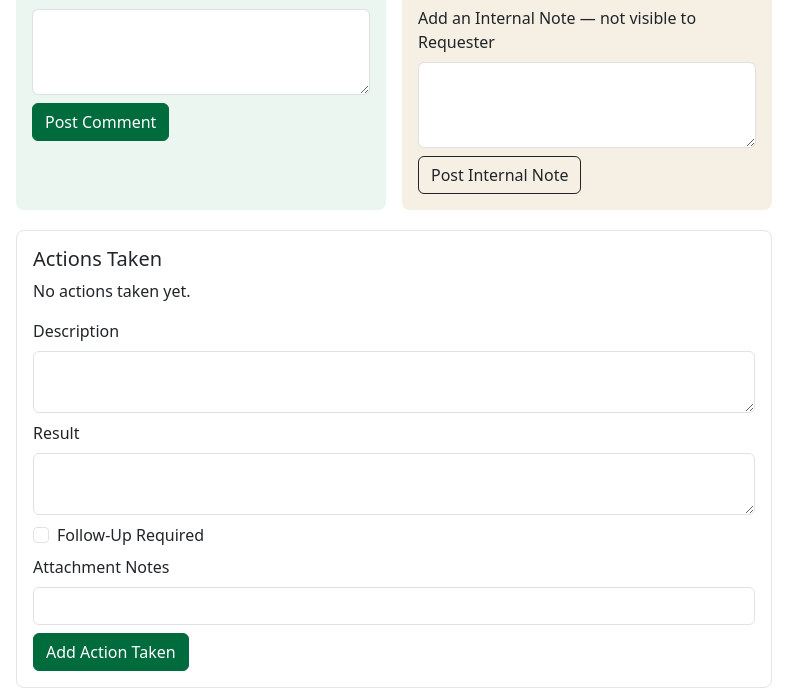
Test: StaffTicketDetail - Actions Taken create (UI-01, UI-02) › shows the Follow-up Note field only when Follow-Up Required is checked
The image size is (789, 690).
(page scrolled)
Expected: the text "No actions taken yet." is shown, [33,280,191,302]
Expected: the field labelled "Follow-up Note" is not shown
Step 1. Click the checkbox labelled "Follow-Up Required" → (41, 535), box [33,527,49,543]
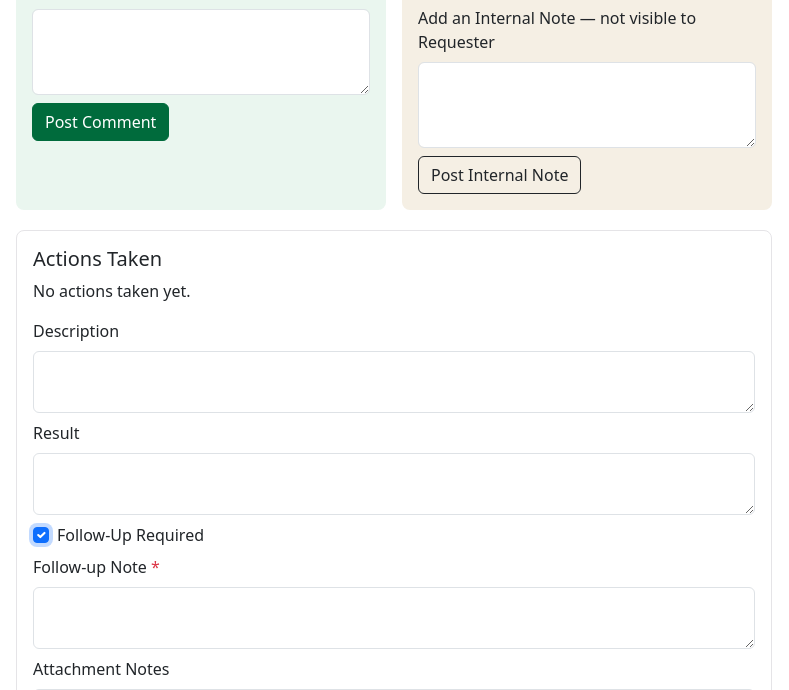
Result: the text box labelled "Follow-up Note *" is shown at [33,587,755,649]
Step 2. Click the checkbox labelled "Follow-Up Required" → (41, 535), box [33,527,49,543]
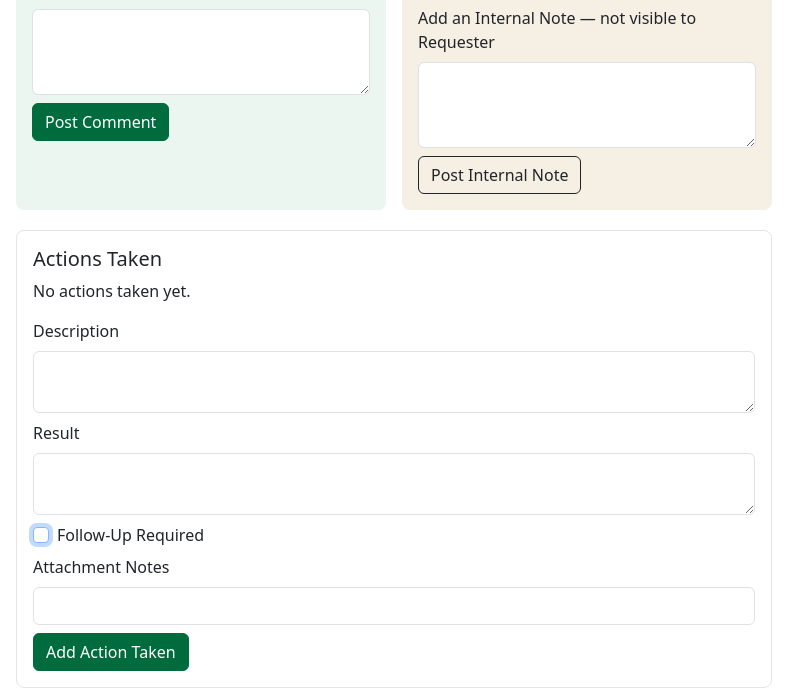
Result: the label labelled "Follow-up Note" is gone
